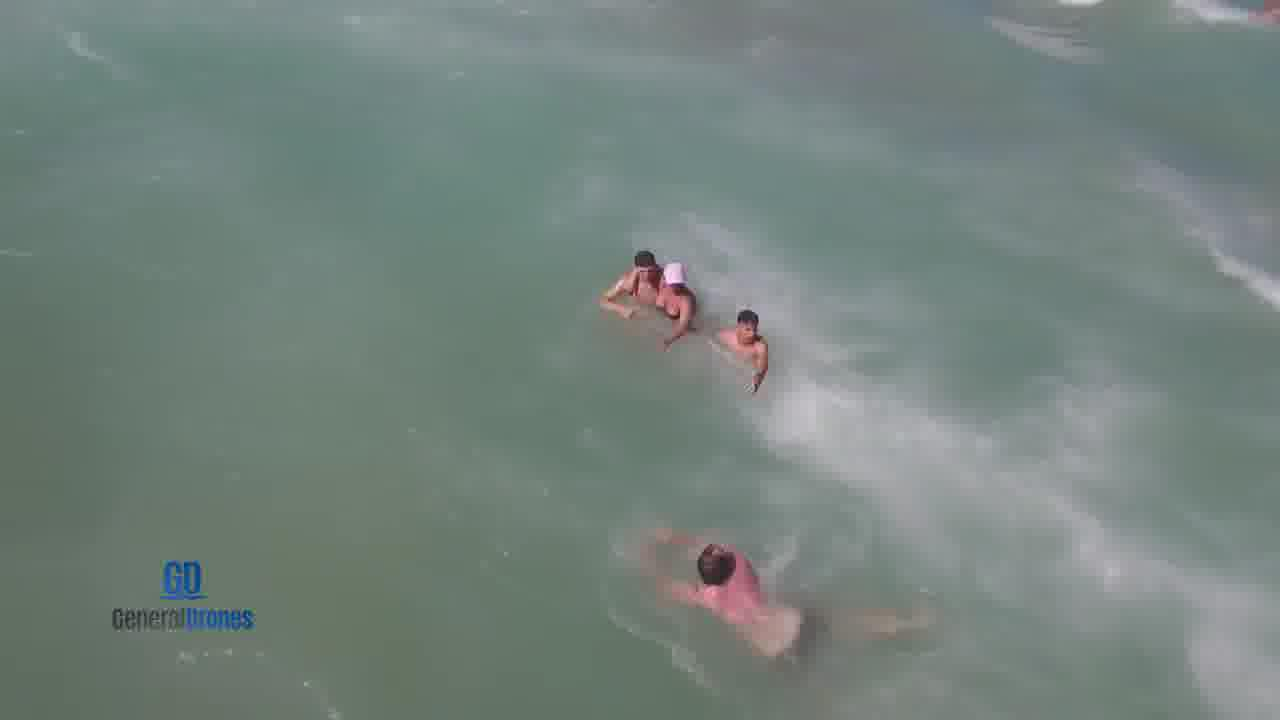swimmer: (627, 519, 825, 669), (713, 307, 775, 399), (592, 248, 661, 317), (652, 258, 700, 351)
